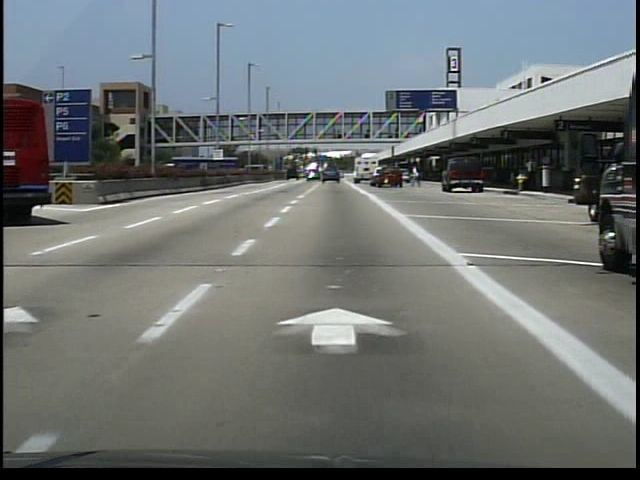person: (522, 155, 541, 198), (410, 168, 424, 190)
